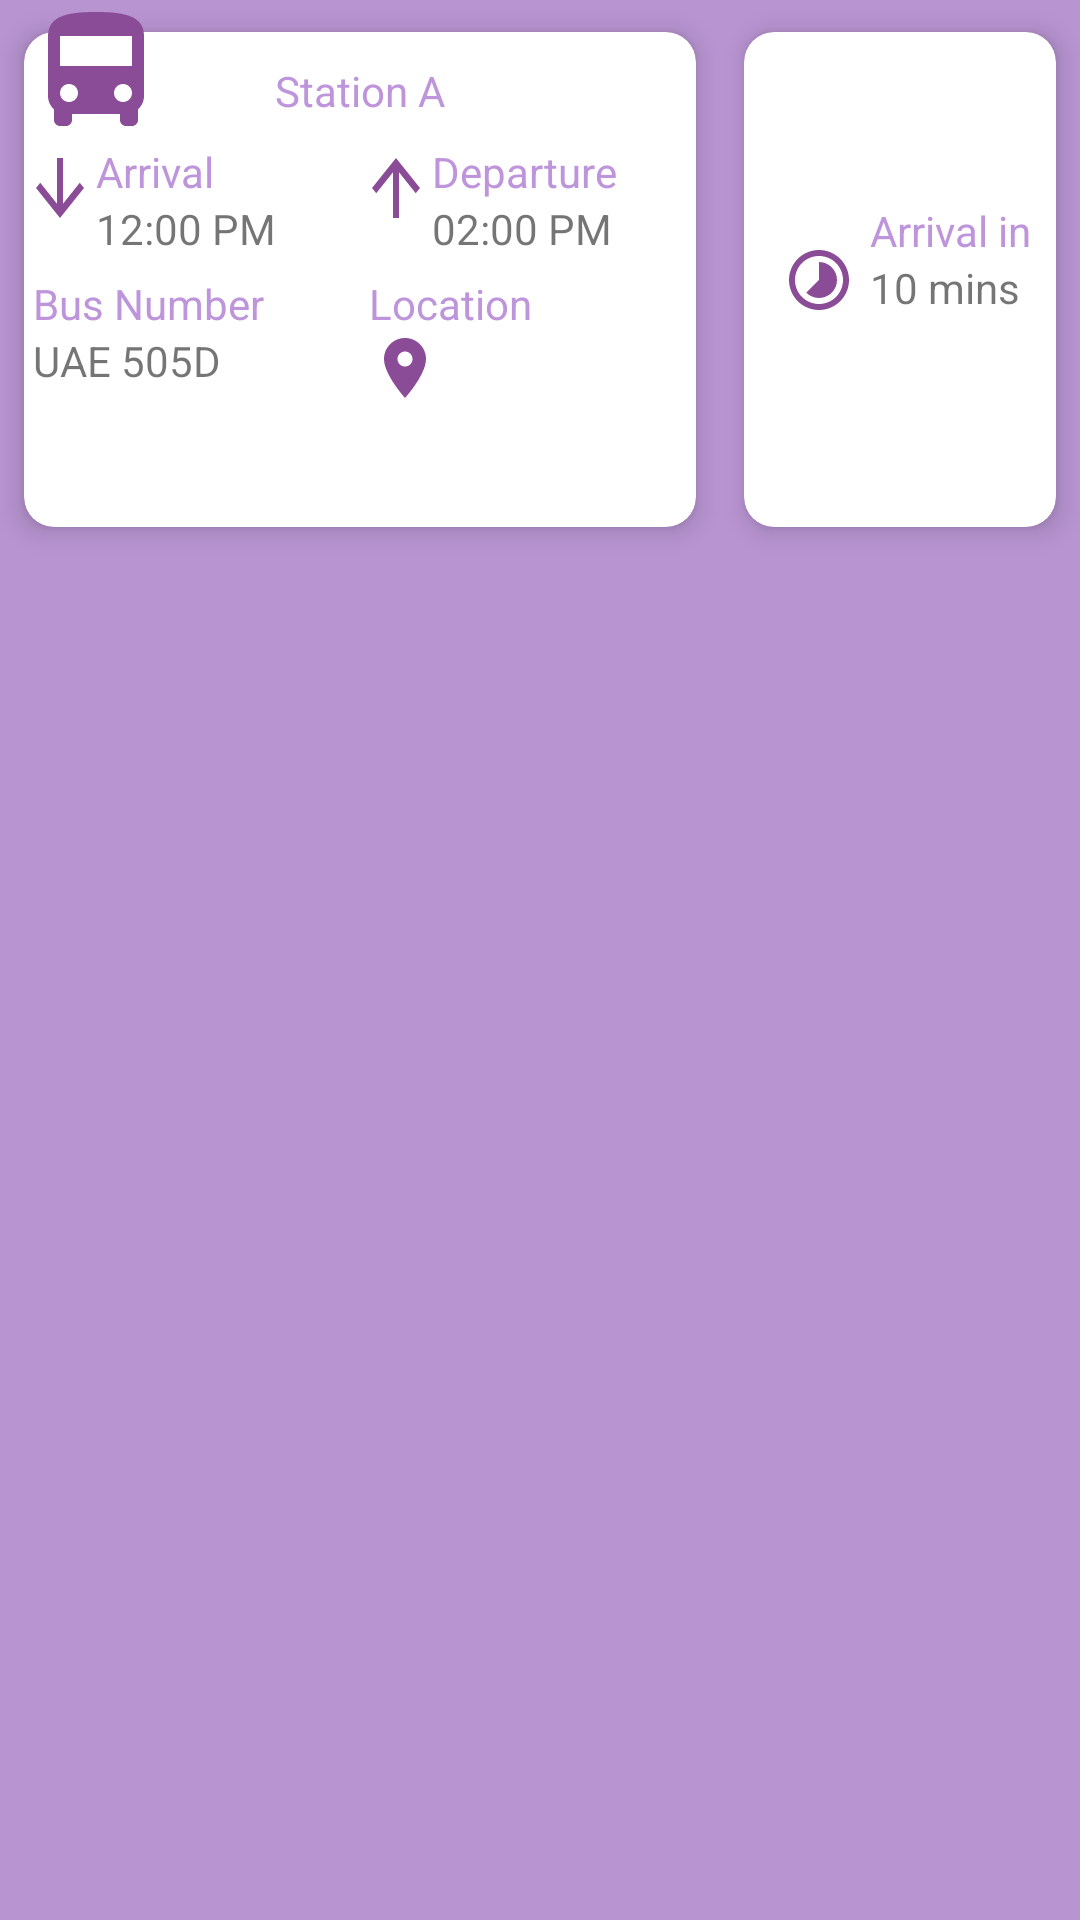

Screen size 1080×1920. Icon name, then its center in pixels as point (x, y):
arrow downward: point (60, 188)
arrow upward: point (396, 188)
timelapse: point (819, 280)
